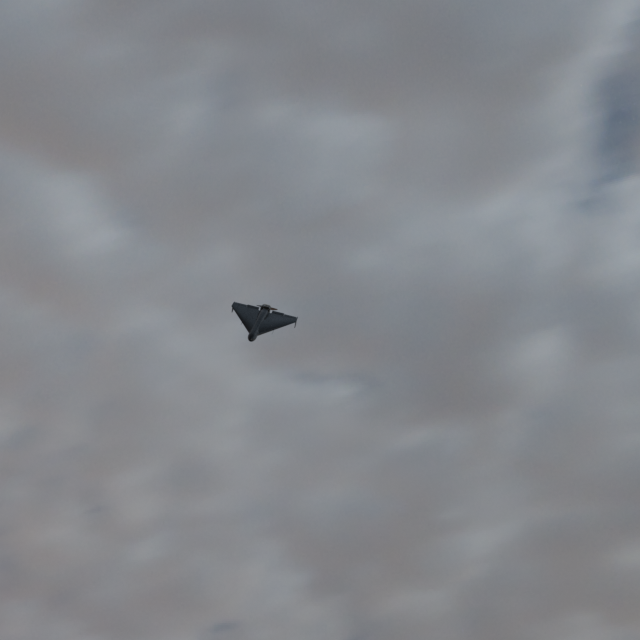shahed: (231, 301, 298, 342)
